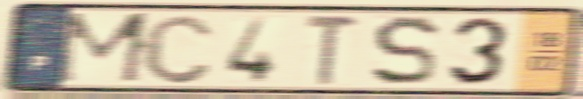3: (444, 14, 516, 89)
4: (222, 13, 282, 86)
C: (139, 11, 217, 87)
M: (51, 10, 156, 86)
S: (369, 13, 442, 88)
T: (303, 12, 362, 88)
